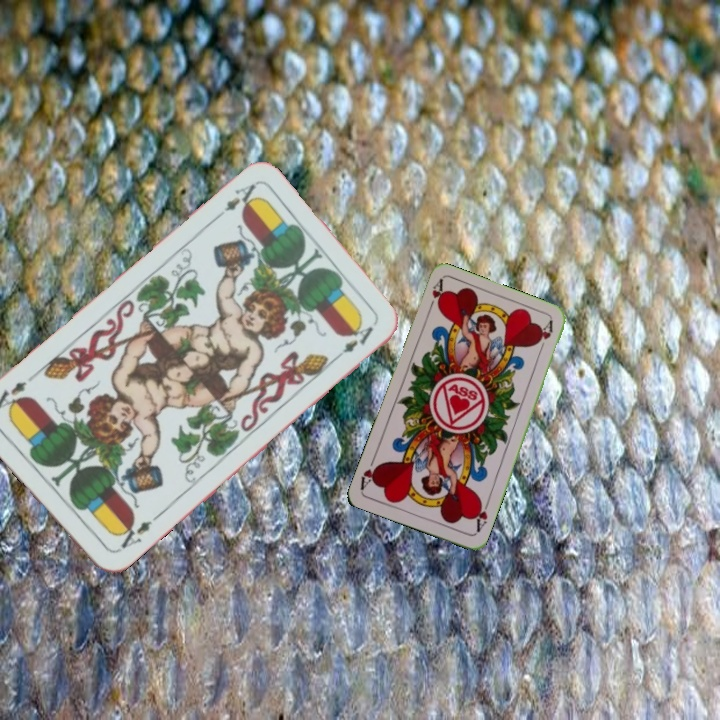EA: (210, 179, 261, 223), (112, 516, 155, 556)
HA: (424, 277, 447, 316), (470, 495, 492, 535)
